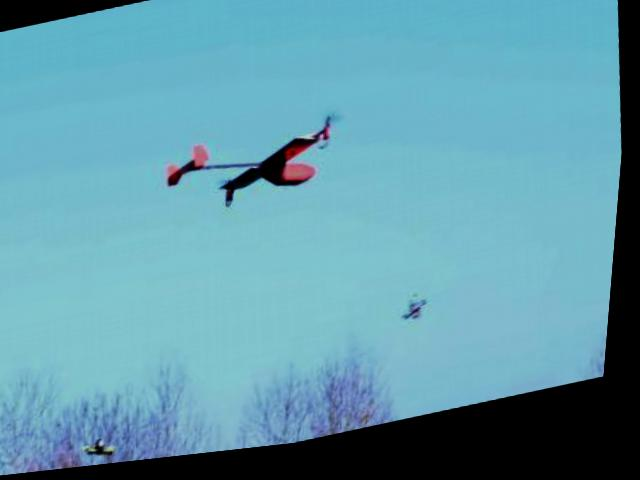uav: (154, 106, 355, 233)
